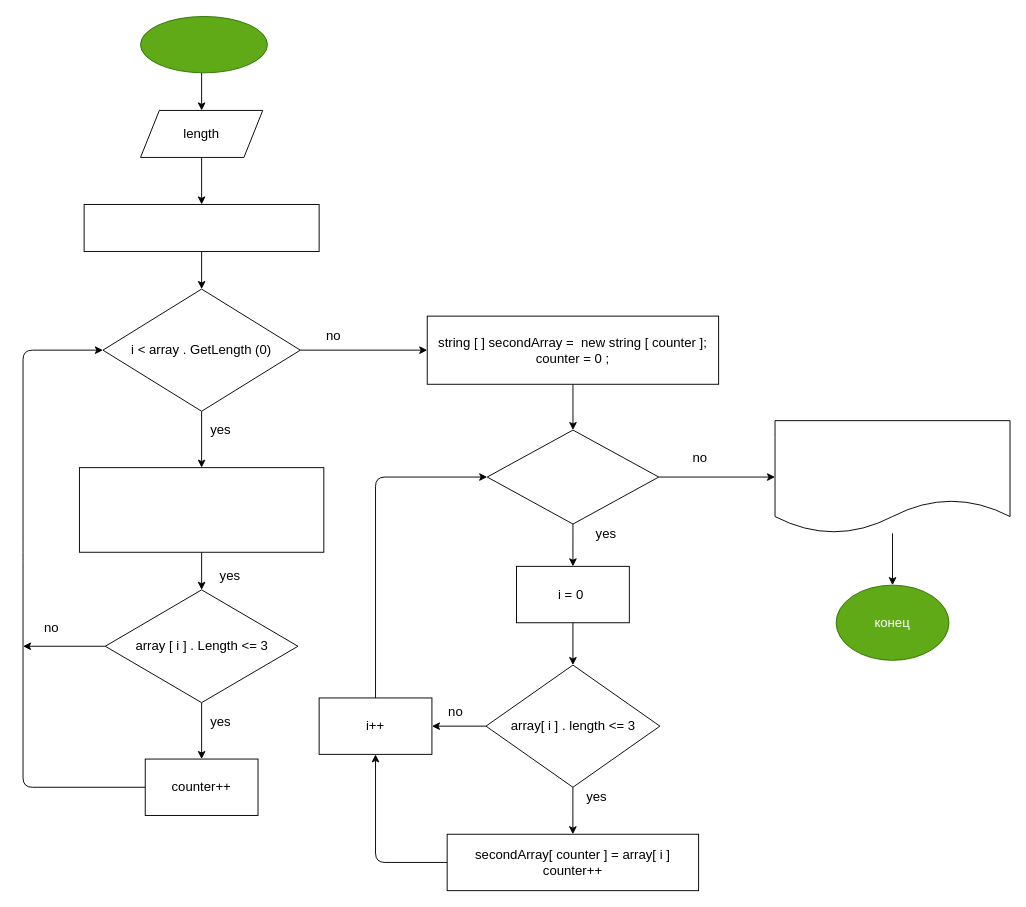
This 1026x907 diagram has some shape labels left out. Here are the shapes that lost their labels. From the top down, the centre of each, then its label:
point (203, 44): начало
point (201, 227): string [] array = new string [length] int counter = 0
point (572, 476): i < array . GetLength(0)
point (892, 476): PrintArray( array ) Console.WriteLine( "_" ) PrintArray( secondArray )
point (201, 509): i = 0 array [ i ] = Convert . ToString (Console.ReadLine()) i++
